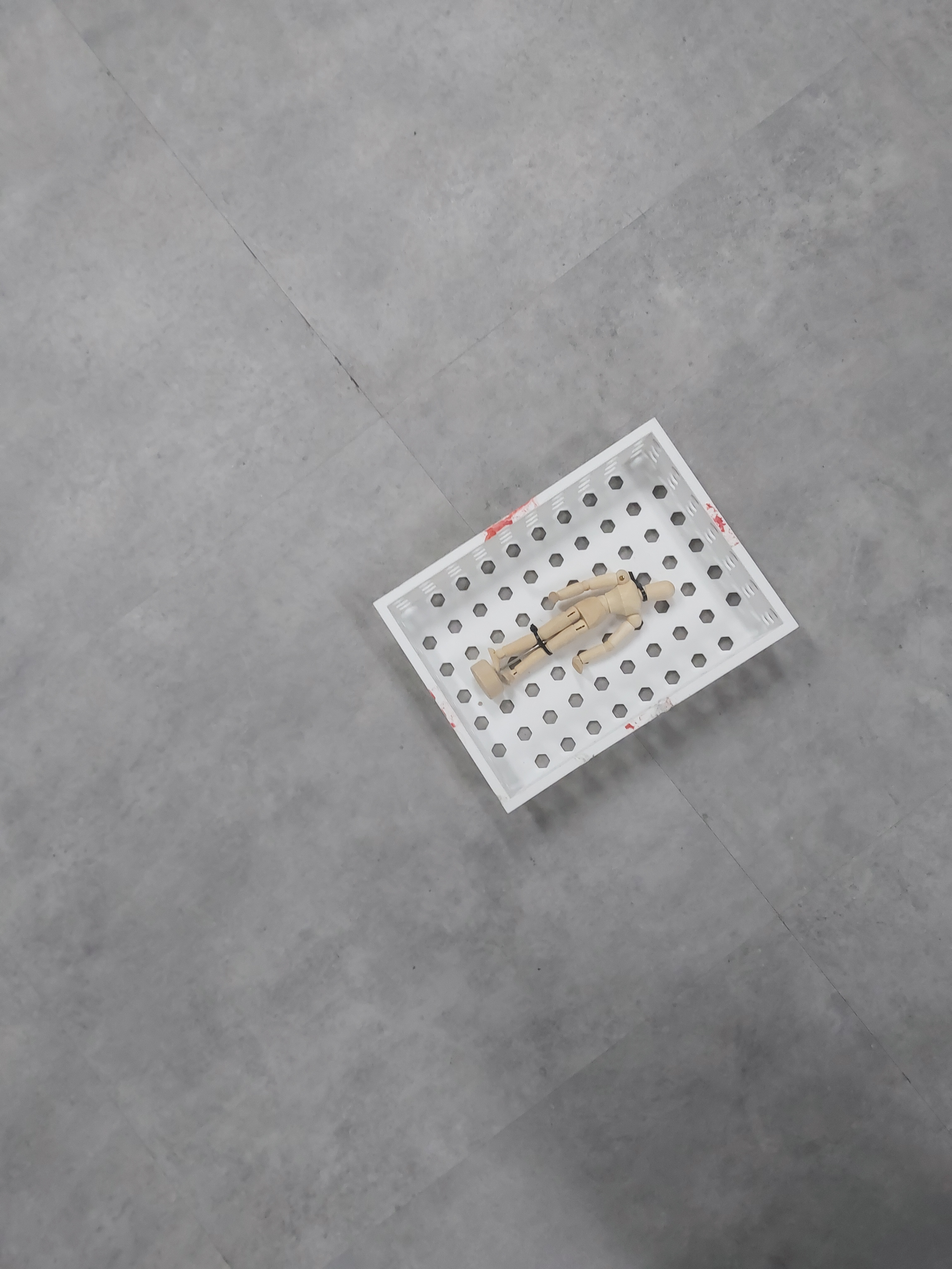basket: (370, 411, 803, 820)
mannequin: (467, 569, 676, 706)
